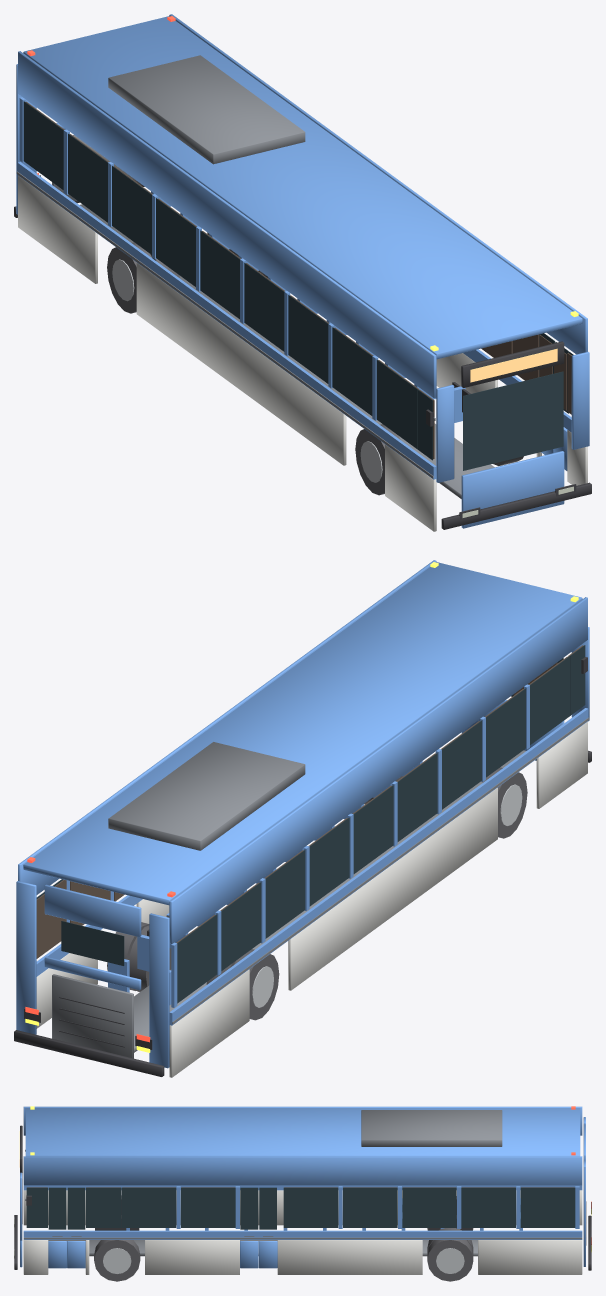
Rendered from Bus_City40_Blue.fbx.
The picture shows the model from 3 angles, top to bottom: view 1: azimuth 30°, elevation 25°; view 2: azimuth 150°, elevation 25°; view 3: azimuth 270°, elevation 25°; orthographic projection. The views are drawn at different scales.
Visible parts, largest first — view 1: LOD0; view 2: LOD0; view 3: LOD0.
Part boxes in pixels (x1,y1,x2,y2): LOD0: (14,14,591,531); LOD0: (14,560,591,1077); LOD0: (14,1106,591,1281).
Size of what is drawn, in the model's own units: 264 by 320 by 1250.
